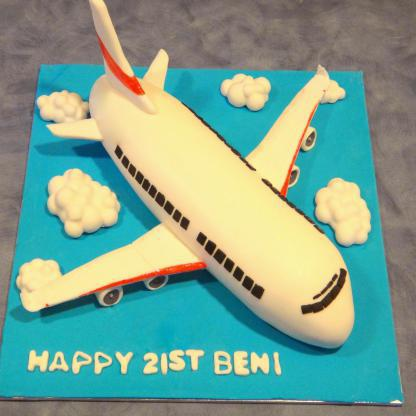CIV_Plane: (15, 5, 358, 354)
